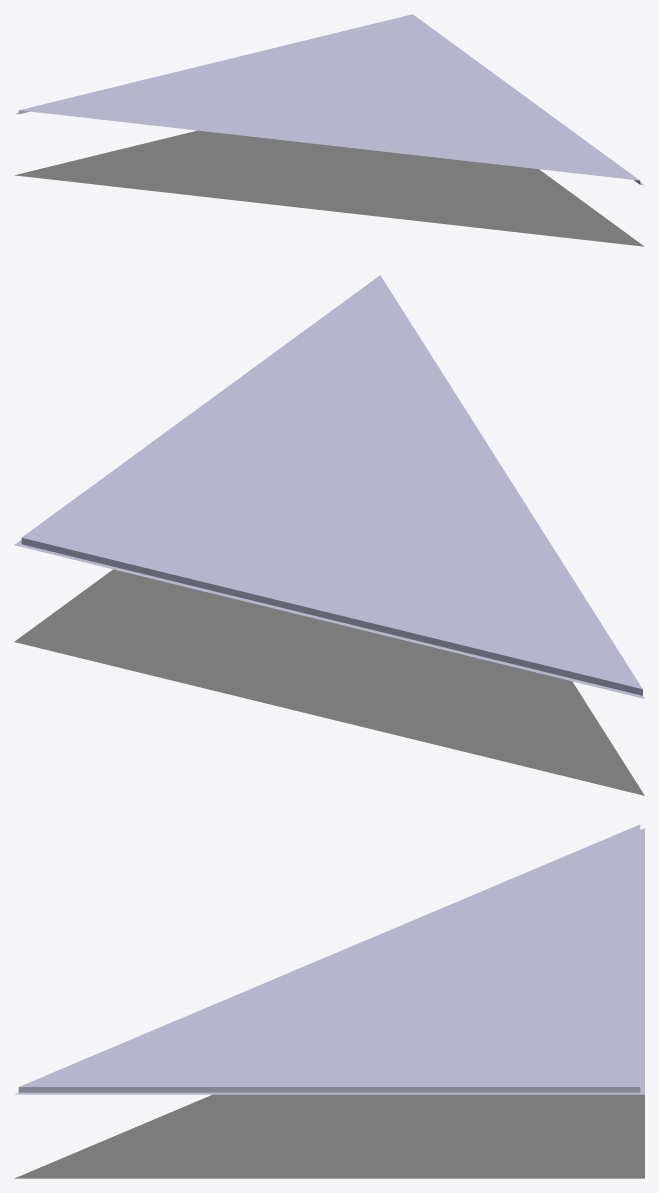
Rendered from FloorPlainTriangle.fbx.
3 views of the same model, one above another, from view 1: azimuth 30°, elevation 25°; view 2: azimuth 150°, elevation 25°; view 3: azimuth 270°, elevation 25° (orthographic). The views are drawn at different scales.
Visible parts, largest first — view 1: FloorPlainTriangle.001; view 2: FloorPlainTriangle.001; view 3: FloorPlainTriangle.001.
Part boxes in pixels (x1=…): FloorPlainTriangle.001: x1=15, y1=14, x2=644, y2=246; FloorPlainTriangle.001: x1=14, y1=275, x2=644, y2=795; FloorPlainTriangle.001: x1=14, y1=824, x2=644, y2=1178.
Bounding box in the file's own units: 200 × 31.33 × 200.
